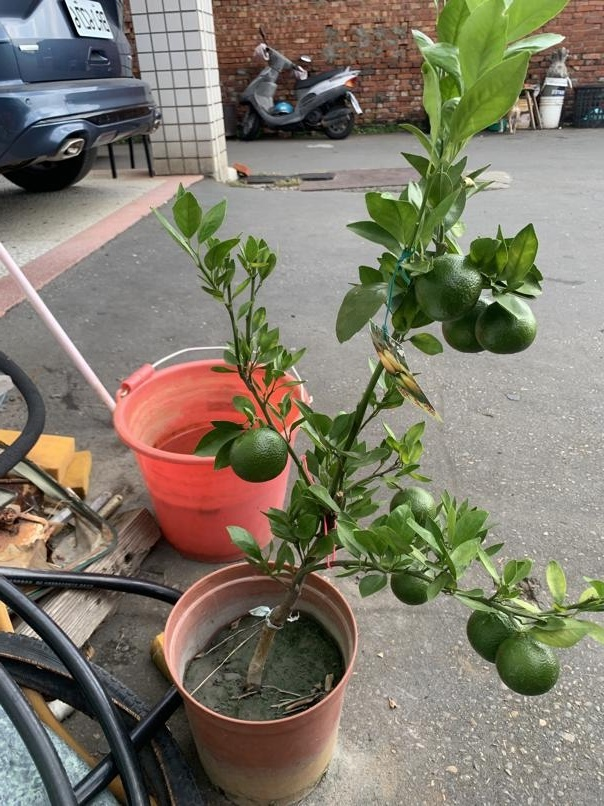Tangerine: (416, 251, 483, 322), (498, 631, 560, 700), (476, 293, 538, 357), (229, 430, 287, 482)
